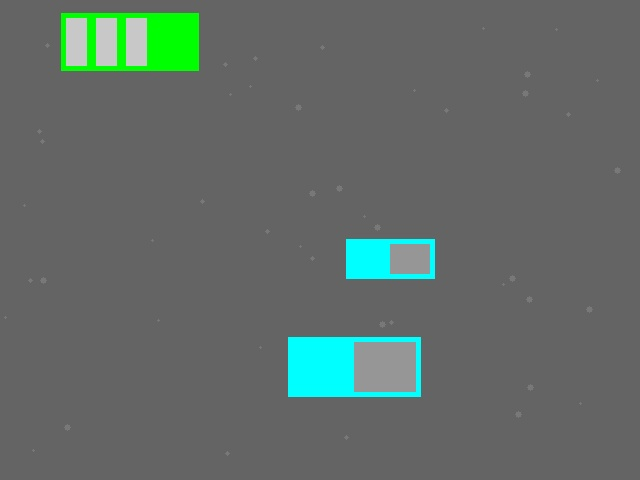bus: (61, 13, 198, 70)
truck: (288, 337, 420, 396), (346, 239, 434, 278)
